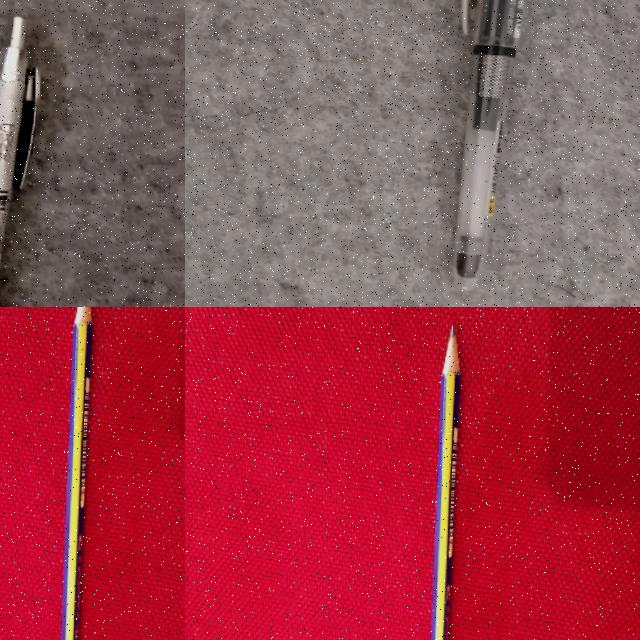pen: (455, 0, 524, 290)
pencil: (61, 307, 92, 639), (432, 326, 460, 639)
signature pen: (0, 17, 40, 263)
